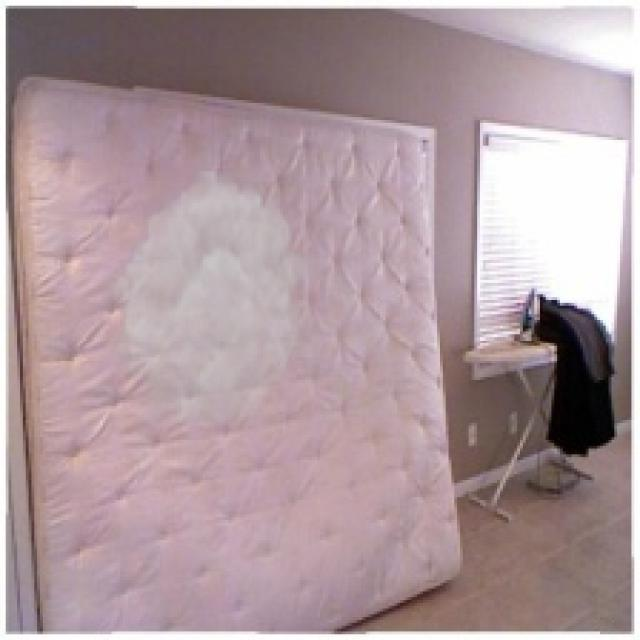Smoke: (102, 171, 318, 423)
